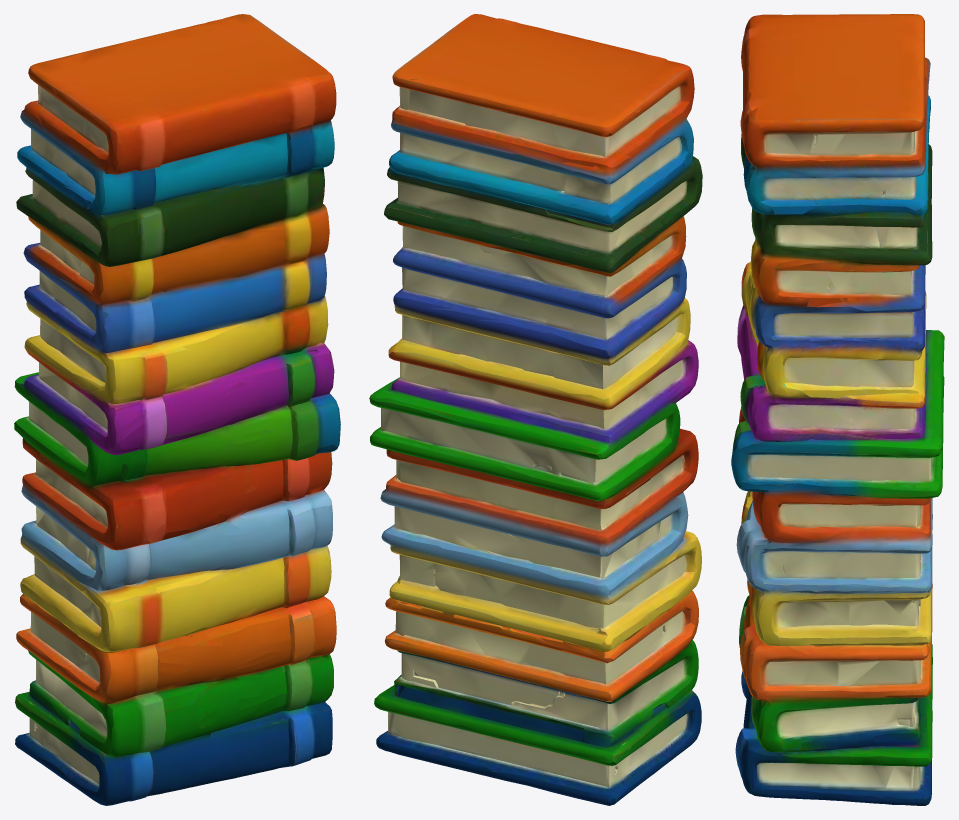
The model's file is x-bookstack.glb.
3 renders of one model, left to right at view 1: azimuth 30°, elevation 25°; view 2: azimuth 150°, elevation 25°; view 3: azimuth 270°, elevation 25°, orthographic.
Visible parts, largest first — view 1: geometry_0; view 2: geometry_0; view 3: geometry_0.
Boxes of the visible parts, bbox=[...] form: geometry_0: bbox=[14, 14, 340, 805]; geometry_0: bbox=[369, 14, 702, 805]; geometry_0: bbox=[731, 14, 944, 805].
Bounding box in the file's own units: 0.1688 × 0.45 × 0.1275.
1 material, 1 textured.
